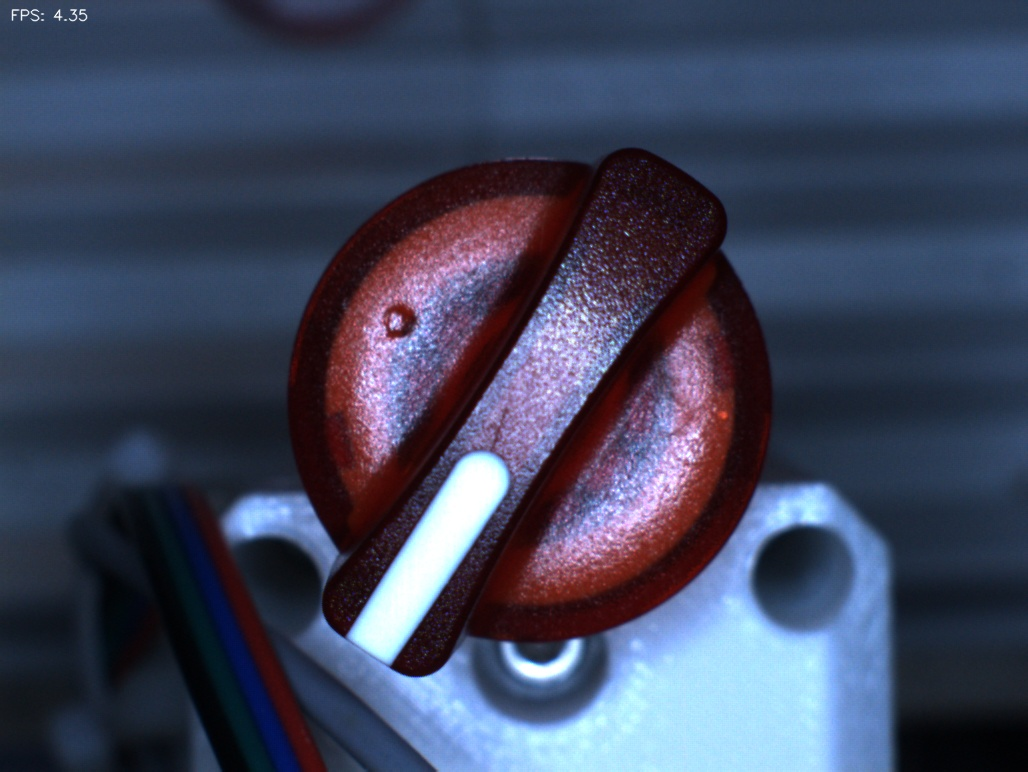Choc: (360, 277, 444, 361)
